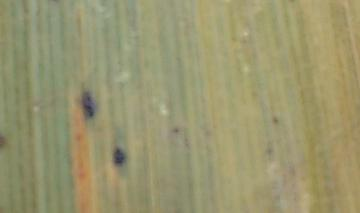tarspot: (78, 89, 97, 119), (110, 146, 128, 167), (1, 132, 9, 152), (270, 114, 281, 127), (172, 127, 181, 135)
